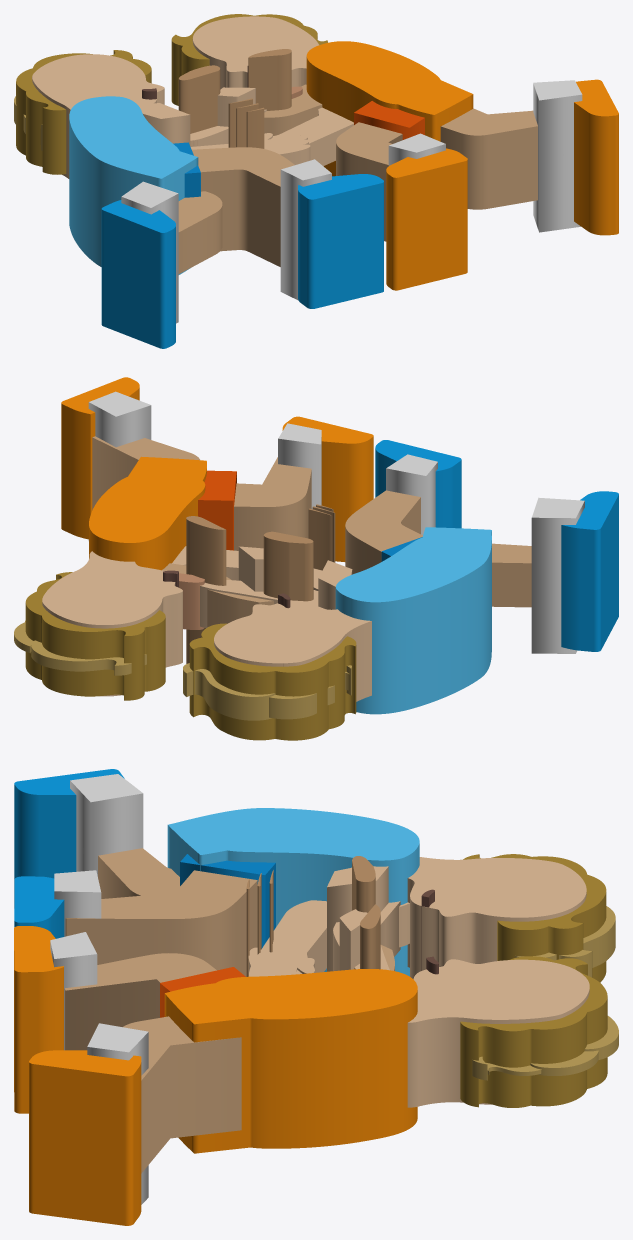
The model's file is emoji_u1f93c_1f3fc.glb.
The picture shows the model from 3 angles, top to bottom: view 1: azimuth 30°, elevation 25°; view 2: azimuth 150°, elevation 25°; view 3: azimuth 270°, elevation 25°; orthographic projection. The views are drawn at different scales.
Parts seen in each view (by area): view 1: emoji_u1f93c_1f3fc; view 2: emoji_u1f93c_1f3fc; view 3: emoji_u1f93c_1f3fc.
Boxes of the visible parts, bbox=[...] form: emoji_u1f93c_1f3fc: bbox=[14, 14, 618, 348]; emoji_u1f93c_1f3fc: bbox=[14, 377, 618, 740]; emoji_u1f93c_1f3fc: bbox=[14, 769, 618, 1225].
Bounding box in the file's own units: 0.0328 × 0.0092 × 0.0271.
